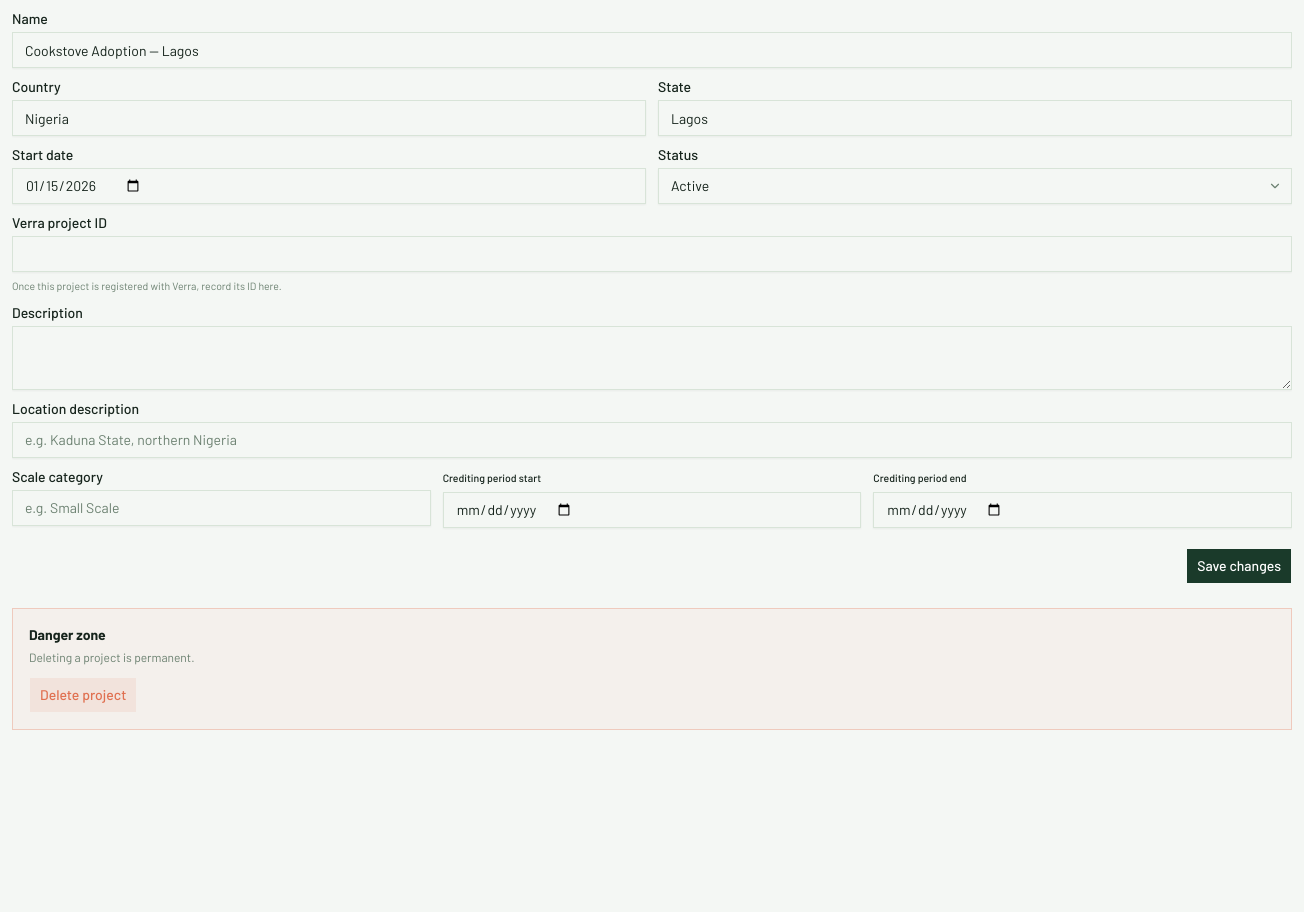
Scenario: EditProjectForm › shows a validation error when the name is cleared
Clear the field labelled "Name" at (652, 50), box x1=12 y1=32 x2=1292 y2=68
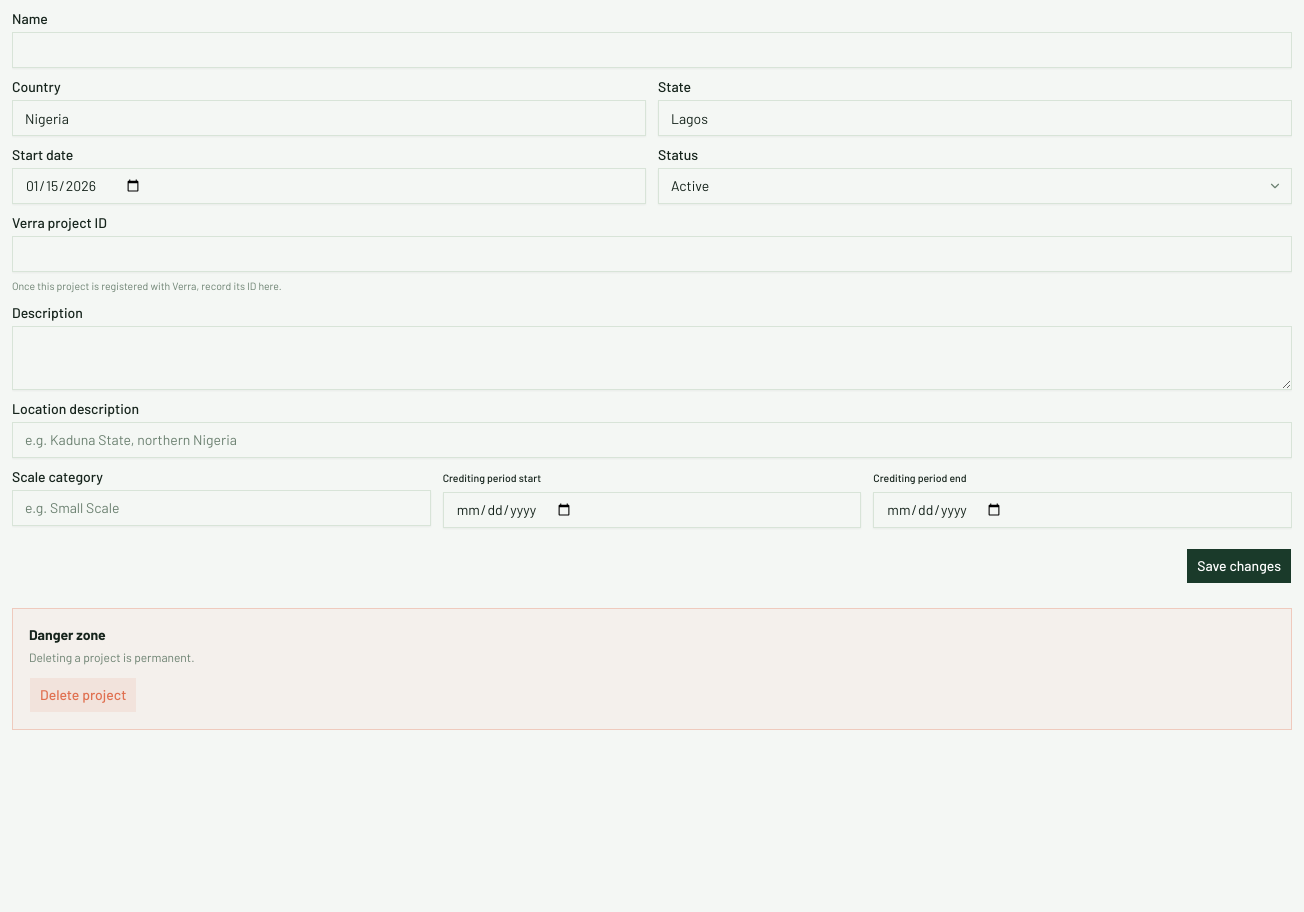
Click the button "Save changes".
click(1239, 566)  # box x1=1186 y1=548 x2=1292 y2=584
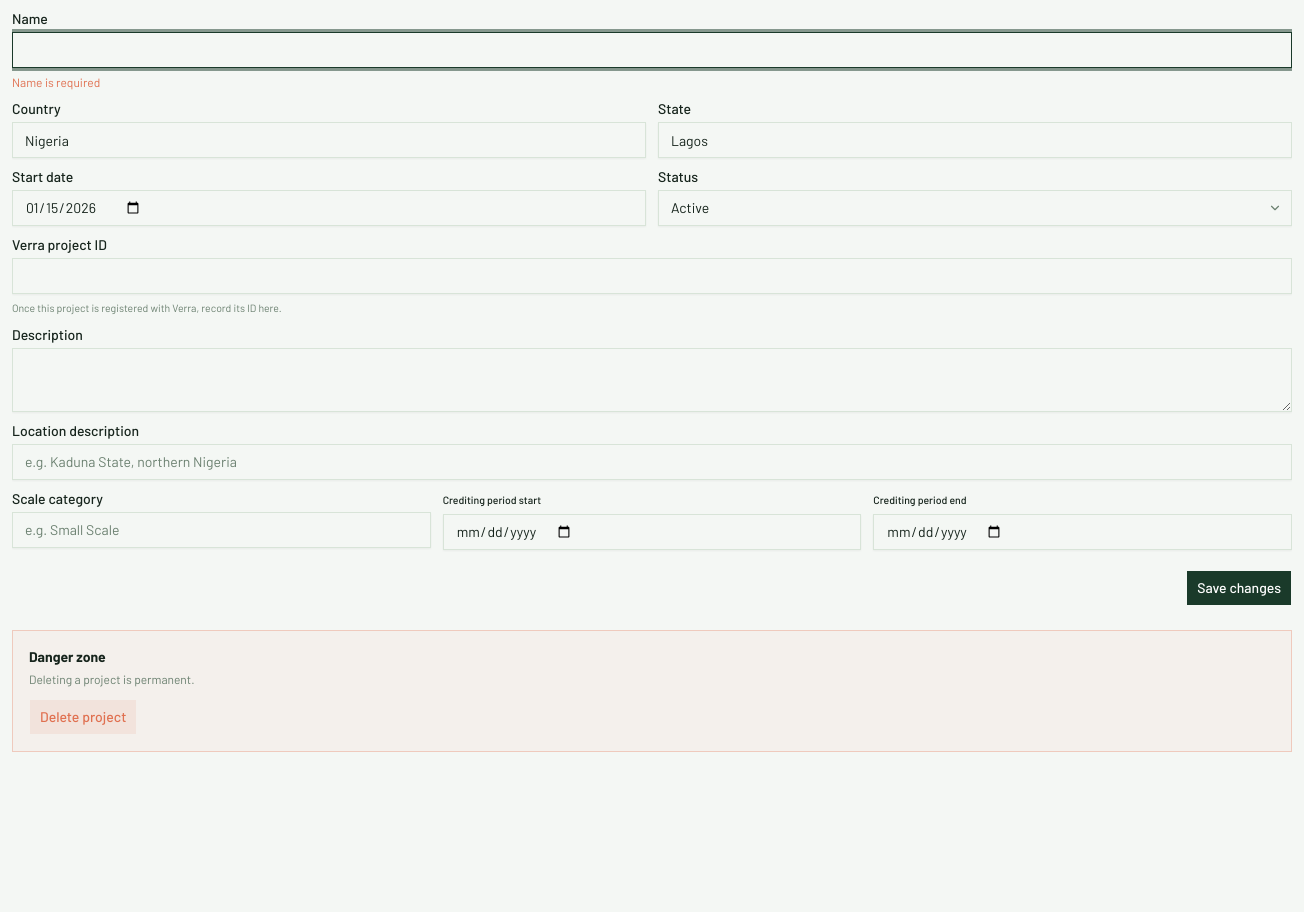
Now the text "Name is required" is shown, box x1=12 y1=75 x2=100 y2=89
